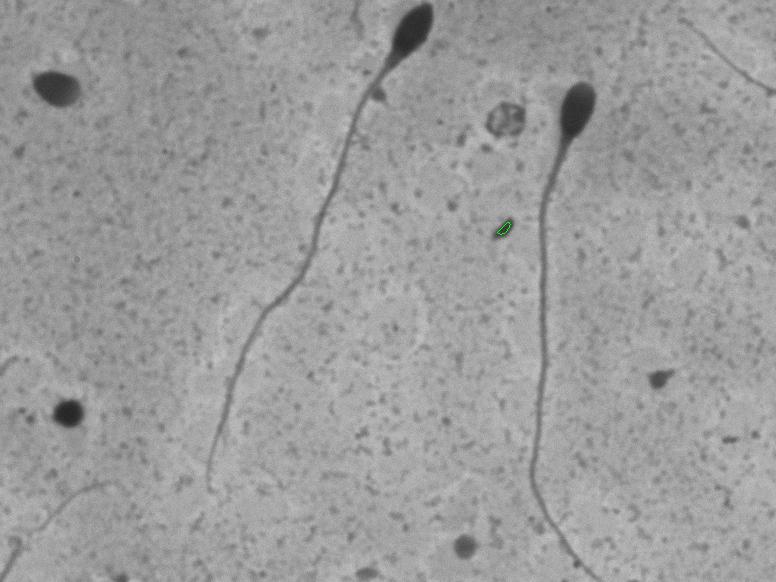Abnormal: (177, 0, 450, 504)
Normal: (529, 65, 631, 561)
